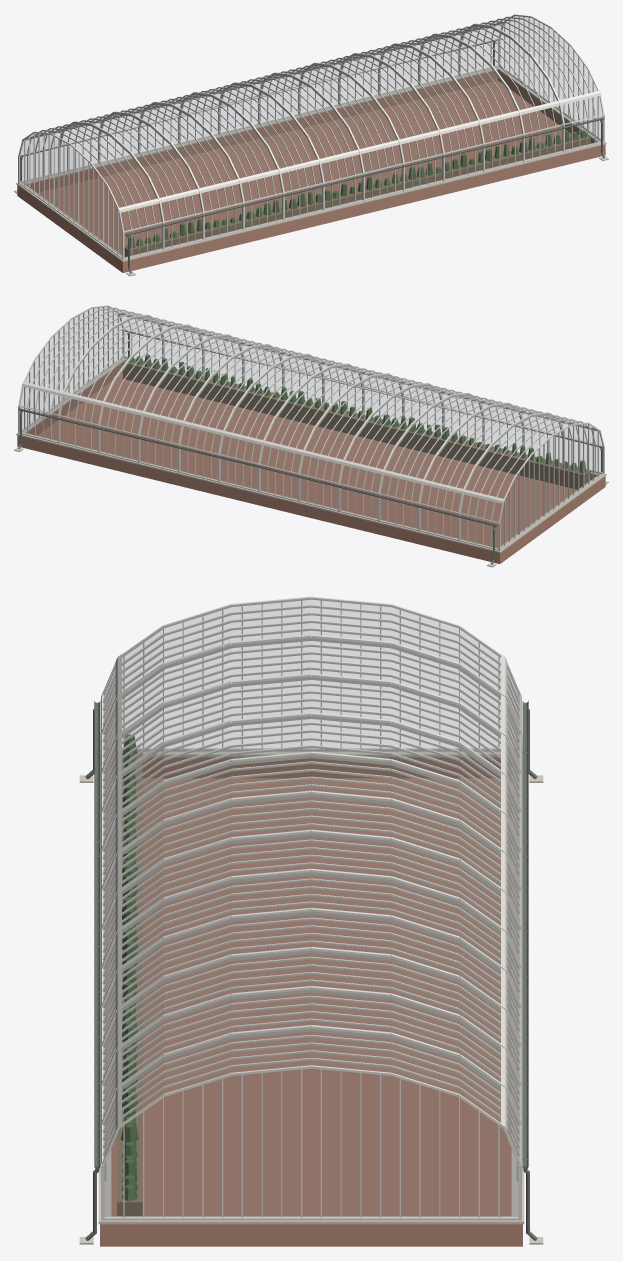
Rendered from pullman_glasshouse_1800_calumet_north__as_standing_1904.glb.
3 views of the same model, one above another, from view 1: azimuth 30°, elevation 25°; view 2: azimuth 150°, elevation 25°; view 3: azimuth 270°, elevation 25° (orthographic). The views are drawn at different scales.
Visible parts, largest first — view 1: pullman_glasshouse_1800_calumet_north__as_standing_1904; view 2: pullman_glasshouse_1800_calumet_north__as_standing_1904; view 3: pullman_glasshouse_1800_calumet_north__as_standing_1904.
Part boxes in pixels (left/top/right/bottom): pullman_glasshouse_1800_calumet_north__as_standing_1904: left=14, top=14, right=608, bottom=276; pullman_glasshouse_1800_calumet_north__as_standing_1904: left=14, top=305, right=608, bottom=567; pullman_glasshouse_1800_calumet_north__as_standing_1904: left=79, top=596, right=543, bottom=1246.
Size of the model in its own units: 23.84 by 4.25 by 9.89.
